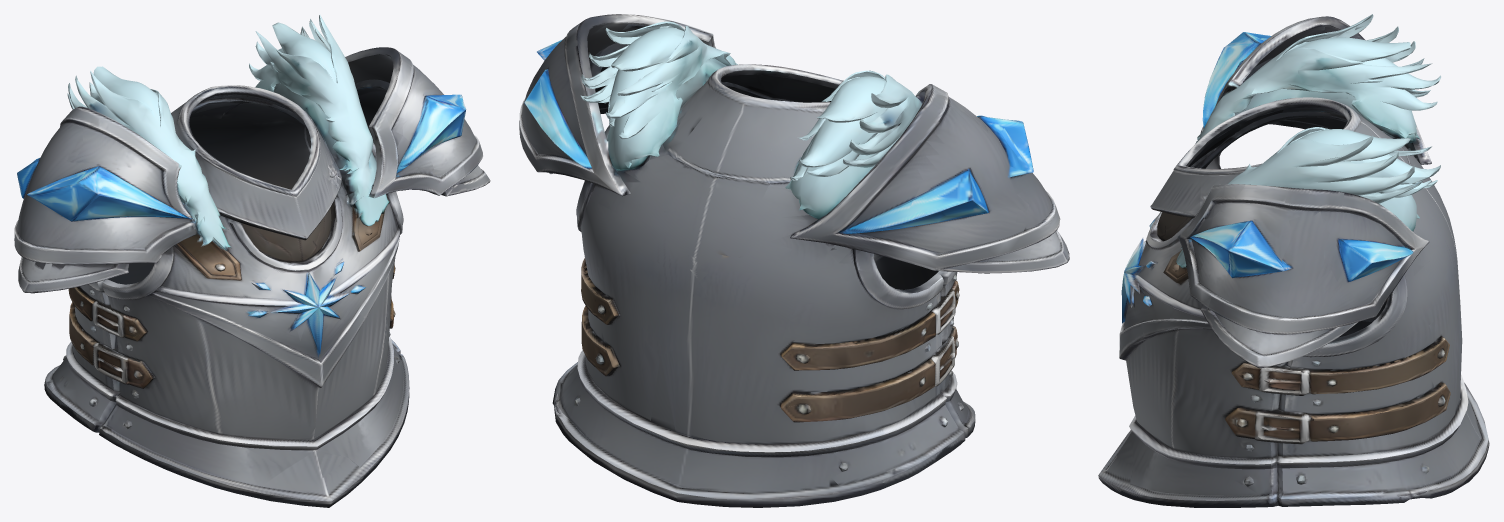
Rendered from EQ_Frieze_Armor.fbx.
3 renders of one model, left to right at view 1: azimuth 30°, elevation 25°; view 2: azimuth 150°, elevation 25°; view 3: azimuth 270°, elevation 25°, orthographic. The views are drawn at different scales.
Parts seen in each view (by area): view 1: EQ_Frieze_Armor; view 2: EQ_Frieze_Armor; view 3: EQ_Frieze_Armor.
Boxes of the visible parts, <box> form: EQ_Frieze_Armor: <box>14,14,490,507</box>; EQ_Frieze_Armor: <box>519,14,1069,507</box>; EQ_Frieze_Armor: <box>1098,14,1489,507</box>.
Bounding box in the file's own units: 128 × 98.33 × 85.26.
Materials: 1 (1 with a texture image).
